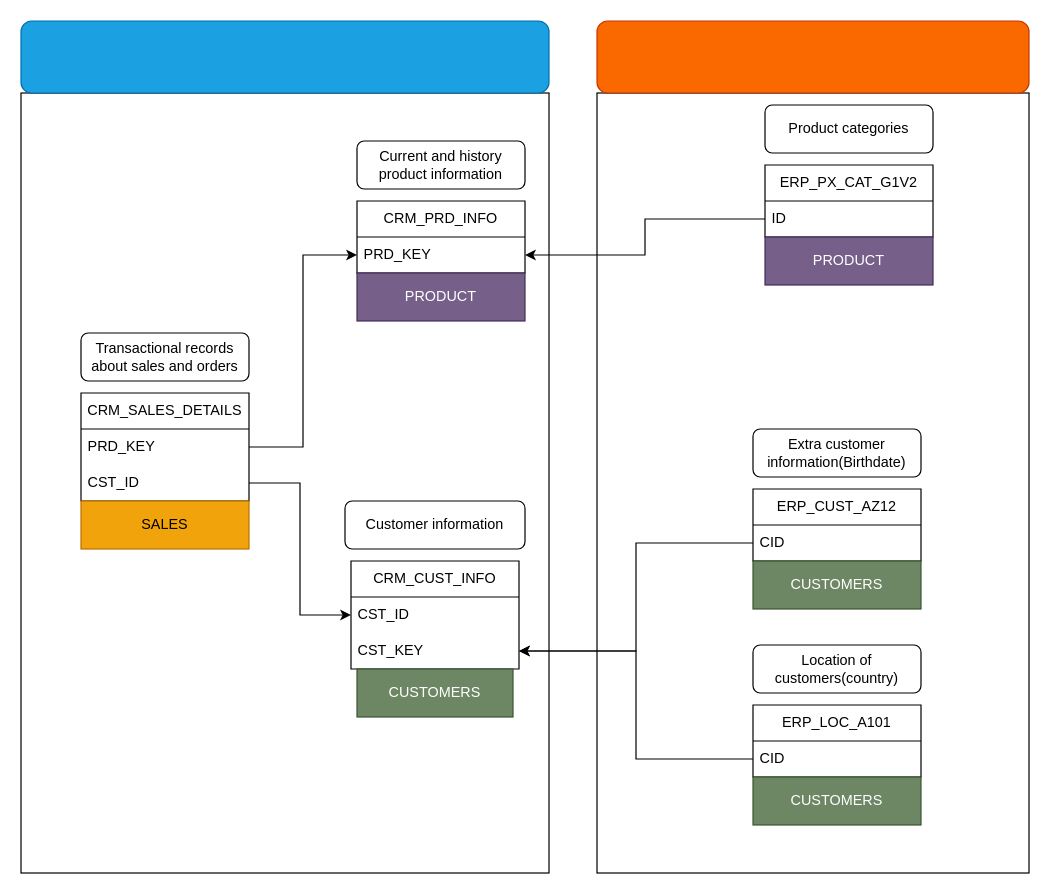
This 1050x894 diagram has some shape labels left out. Each missing label, with the centre of its shape:
"CRM" goes at (284,56).
"ERP" goes at (812,56).
